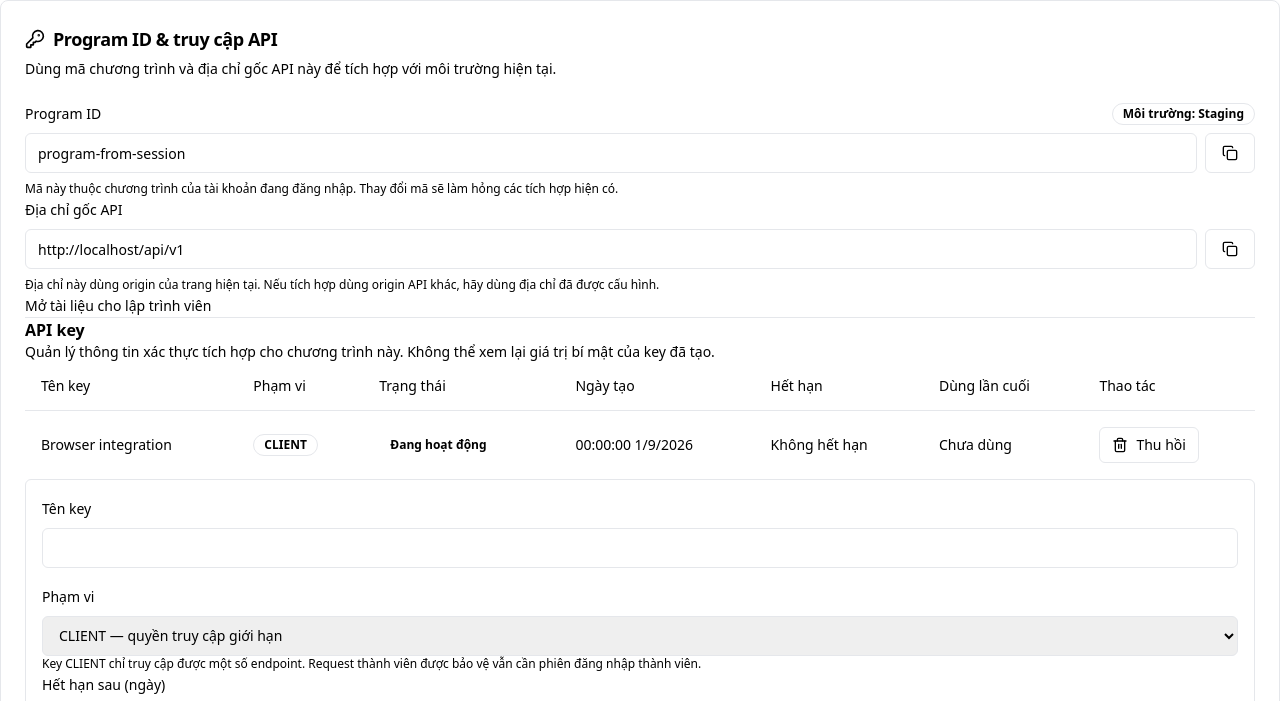
API access settings › renders Vietnamese controls, warnings, validation, and clipboard errors
Check: the field showing "program-from-session" is shown, box [25,133,1197,173]
Check: the text "Môi trường: Staging" is shown, box [1112,103,1255,125]
Click the button named "Sao chép Program ID".
click(1230, 153)  # box [1205,133,1255,173]
(page scrolled)
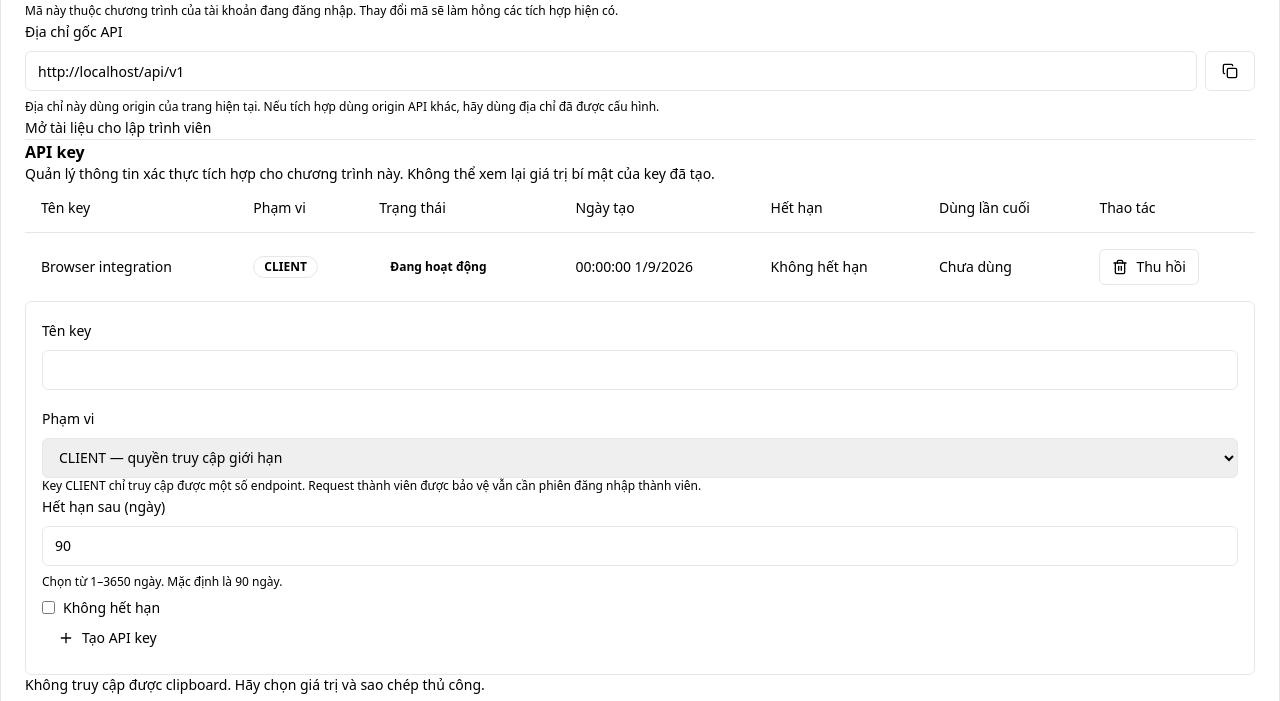
Check: the message shows "Không truy cập được clipboard", box [25,674,485,694]
Click the button "Tạo API key".
click(107, 638)  # box [42,618,173,658]
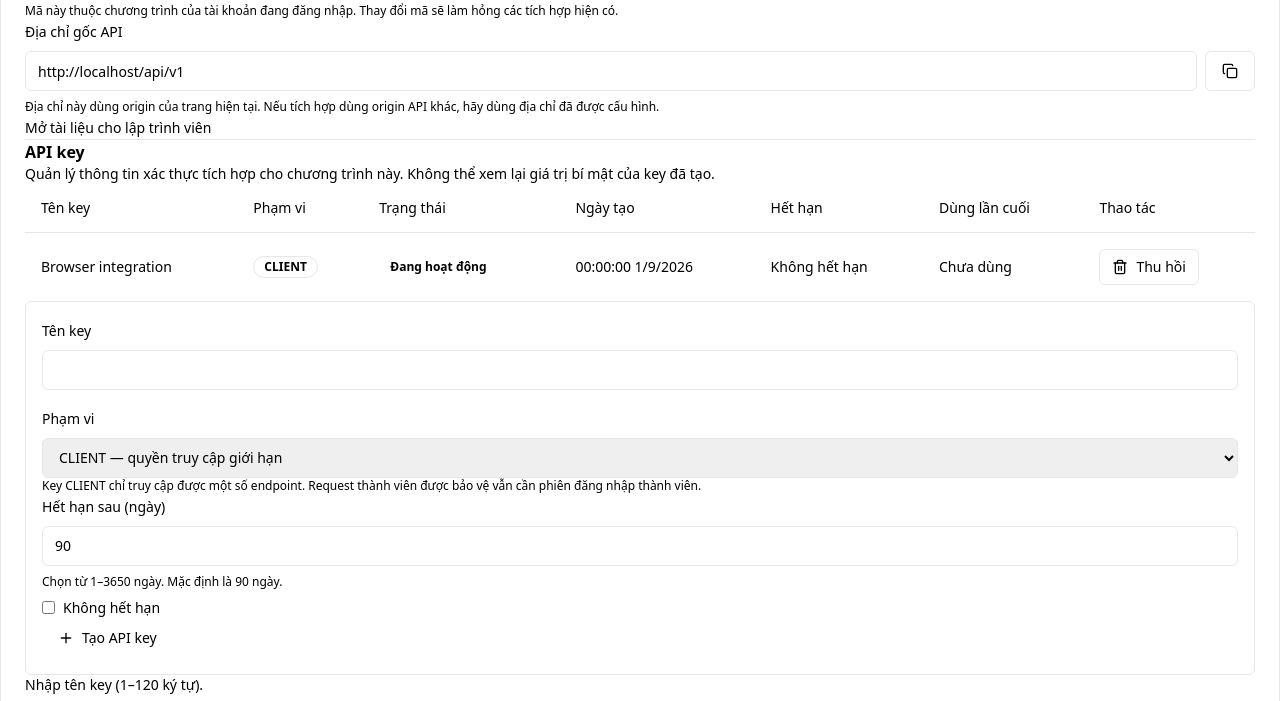
Check: the message reads "Nhập tên key (1–120 ký tự).", box [25,674,203,694]
Select "SERVER — toàn quyền chương trình" in the dropdown labelled "Phạm vi" at [640, 458], box [42,438,1238,478]
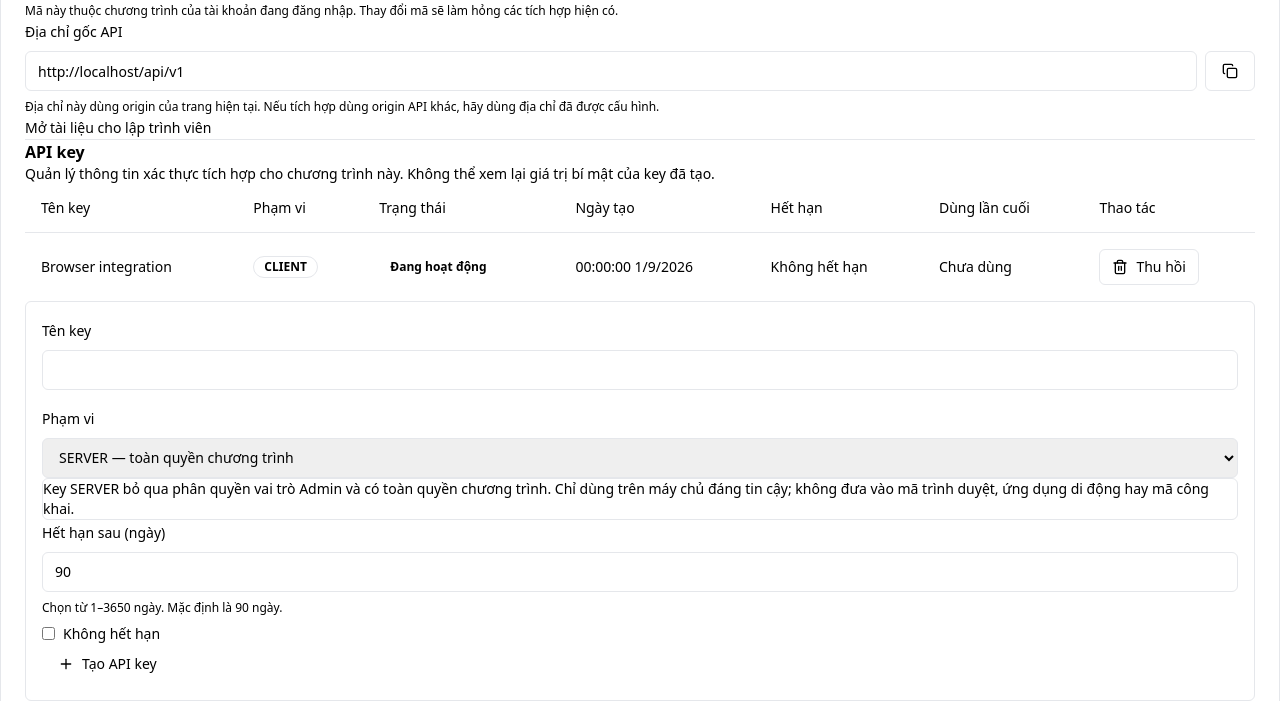
Check: the link "Mở tài liệu cho lập trình viên" is shown, box [25,118,211,138]
Check: the text "bỏ qua phân quyền vai trò Admin" is shown, box [43,478,1209,518]
